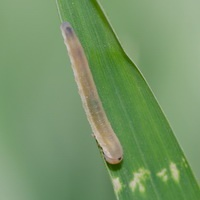insect: (60, 22, 122, 163)
